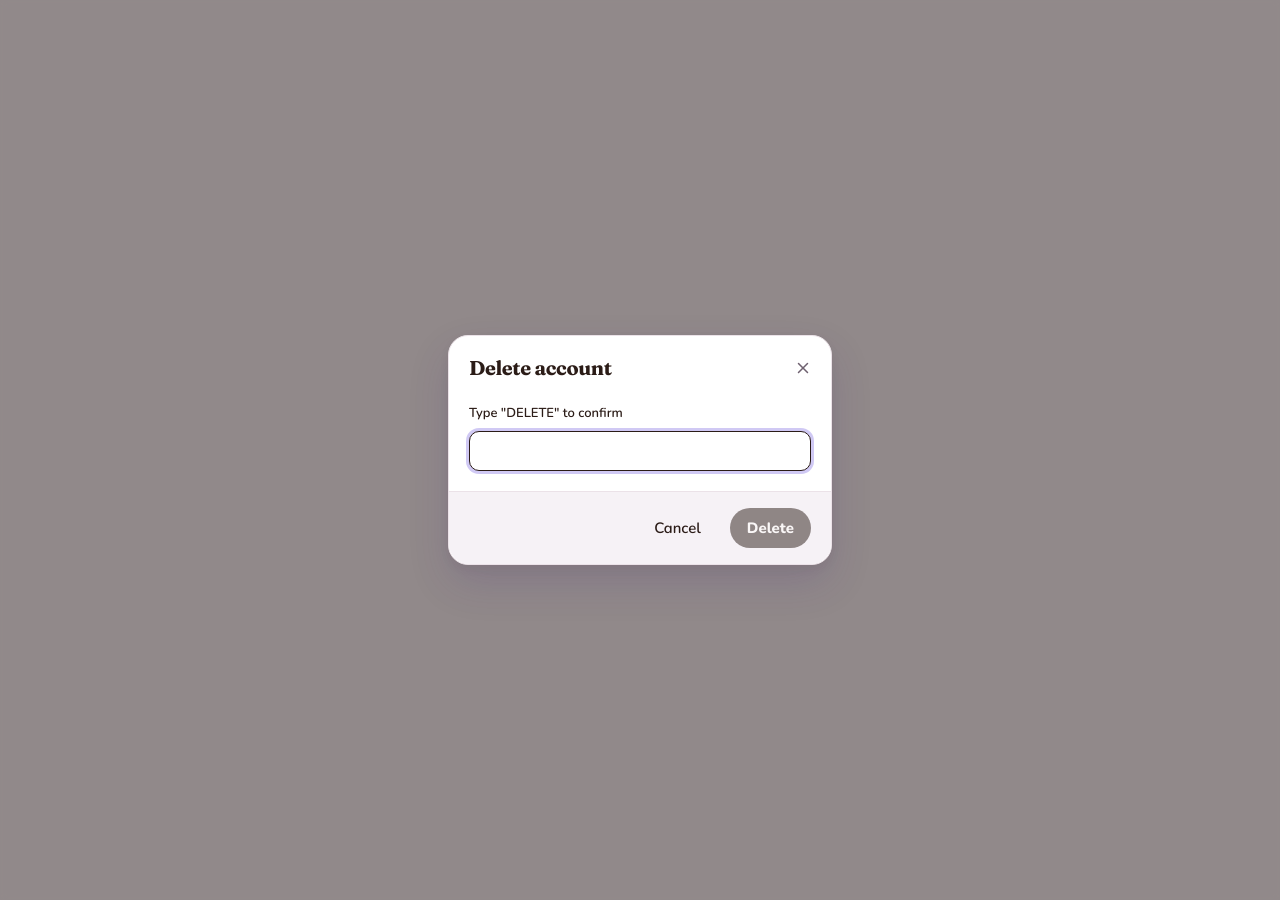
it: ConfirmDialog › requires typed confirmation before enabling the confirm button
The width and height of the screenshot is (1280, 900).
Expected: the button "Delete" is disabled, [730,508,811,548]
In the field labelled "Type \"DELETE\" to confirm": (640, 451) [482,432,798,470], type "DELETE"
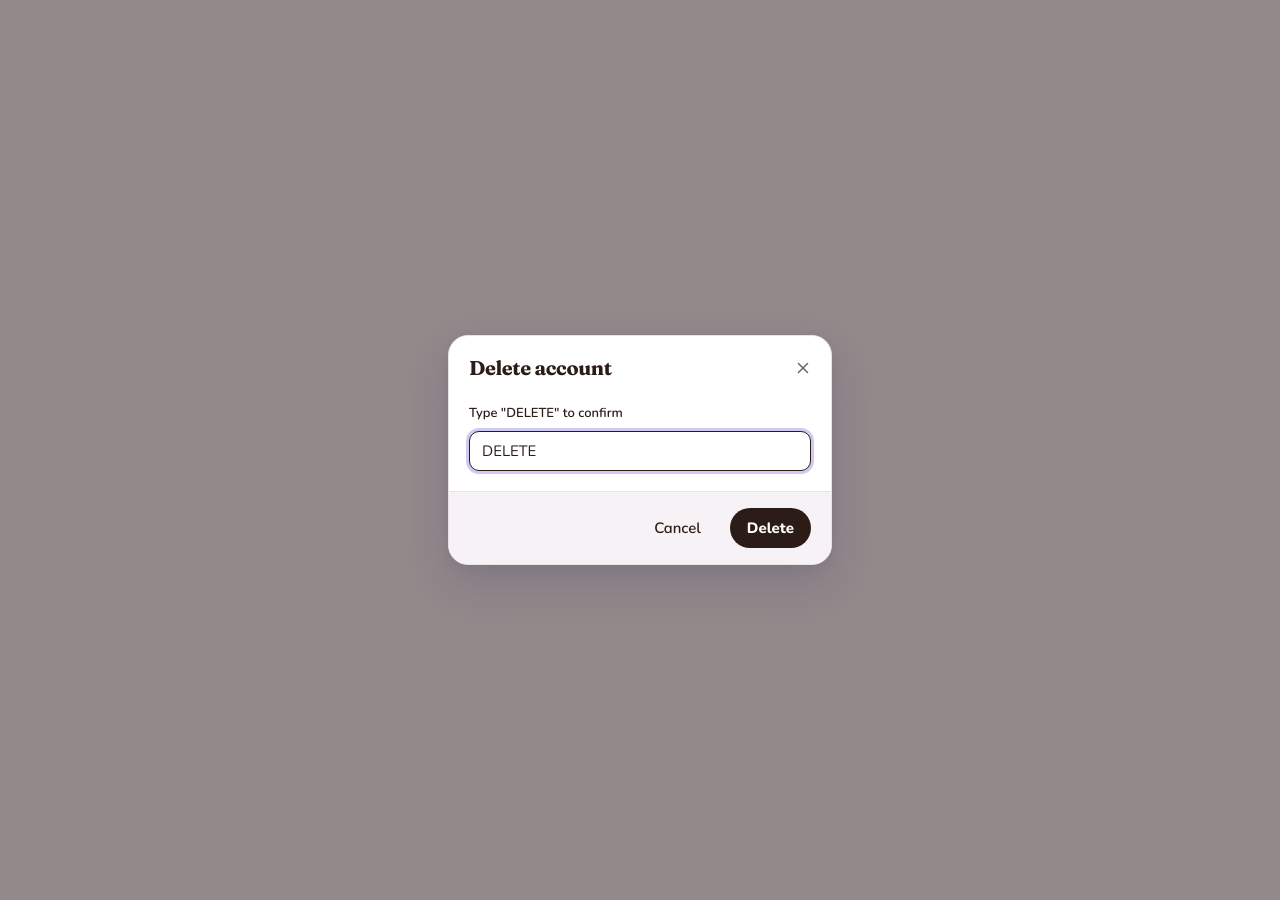
Result: the button "Delete" is enabled at [730,508,811,548]
